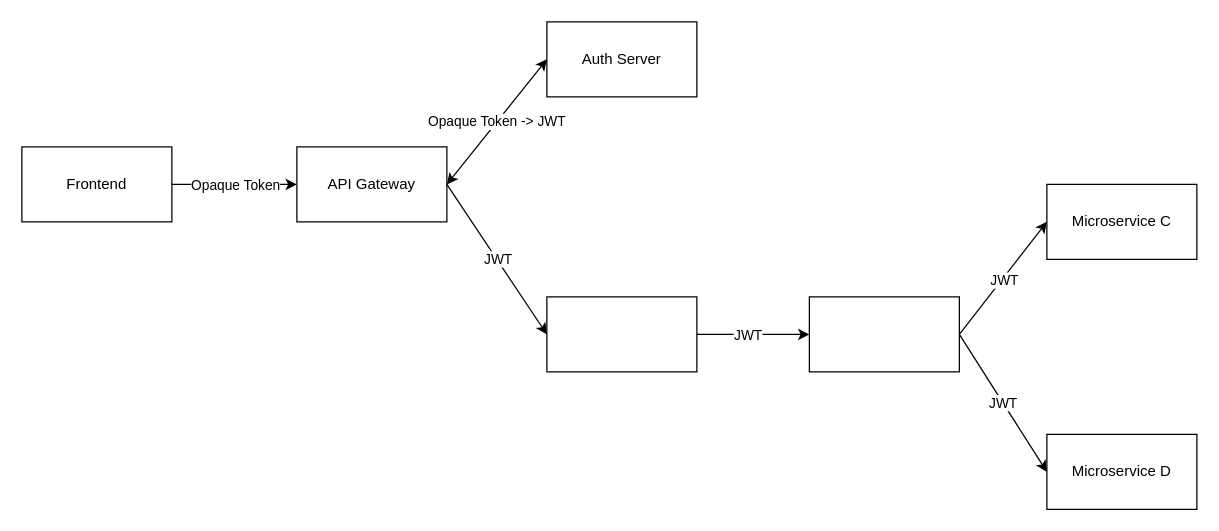
Some shapes in this 1219 by 531 pixel diagram are drawn without their labels. The box of each missing label's shape, as (x1, y1, x2, y2) in pixels:
Microservice A: (546, 296, 697, 372)
Microservice B: (808, 296, 959, 372)
